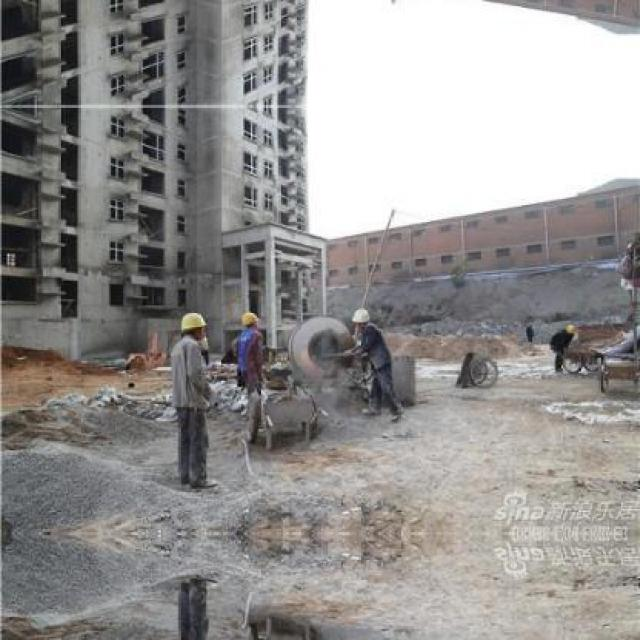hat: (171, 304, 211, 337), (349, 299, 380, 335), (238, 304, 260, 332), (563, 318, 580, 338)
